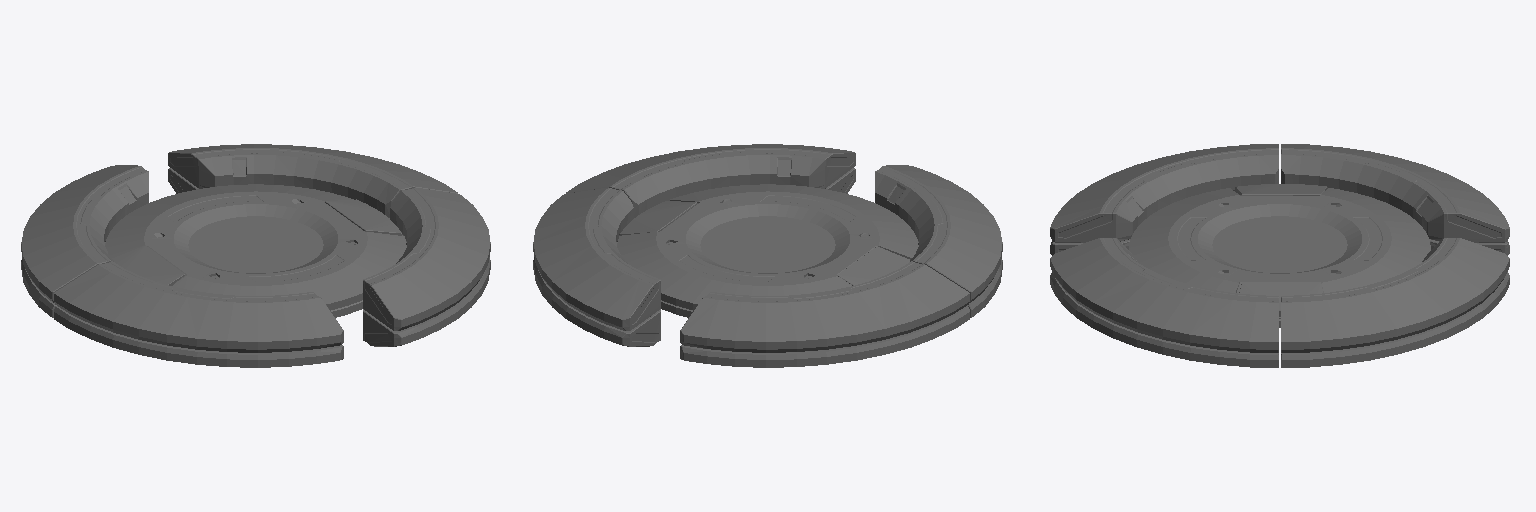
The model's file is disc.obj.
The picture shows the model from 3 angles: view 1: azimuth 30°, elevation 25°; view 2: azimuth 150°, elevation 25°; view 3: azimuth 270°, elevation 25°; orthographic projection.
Visible parts, largest first — view 1: disk_Untitled; view 2: disk_Untitled; view 3: disk_Untitled.
Part boxes in pixels (bbox=[...]): disk_Untitled: bbox=[21, 144, 490, 367]; disk_Untitled: bbox=[533, 144, 1002, 367]; disk_Untitled: bbox=[1050, 144, 1509, 367].
Size of the model in its own units: 0.6904 by 0.0992 by 0.677.